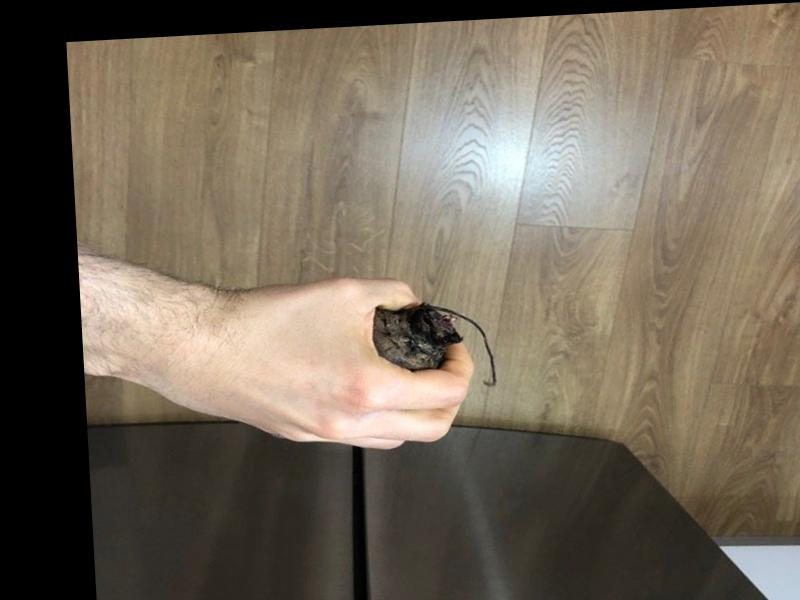Beet: (371, 300, 499, 394)
